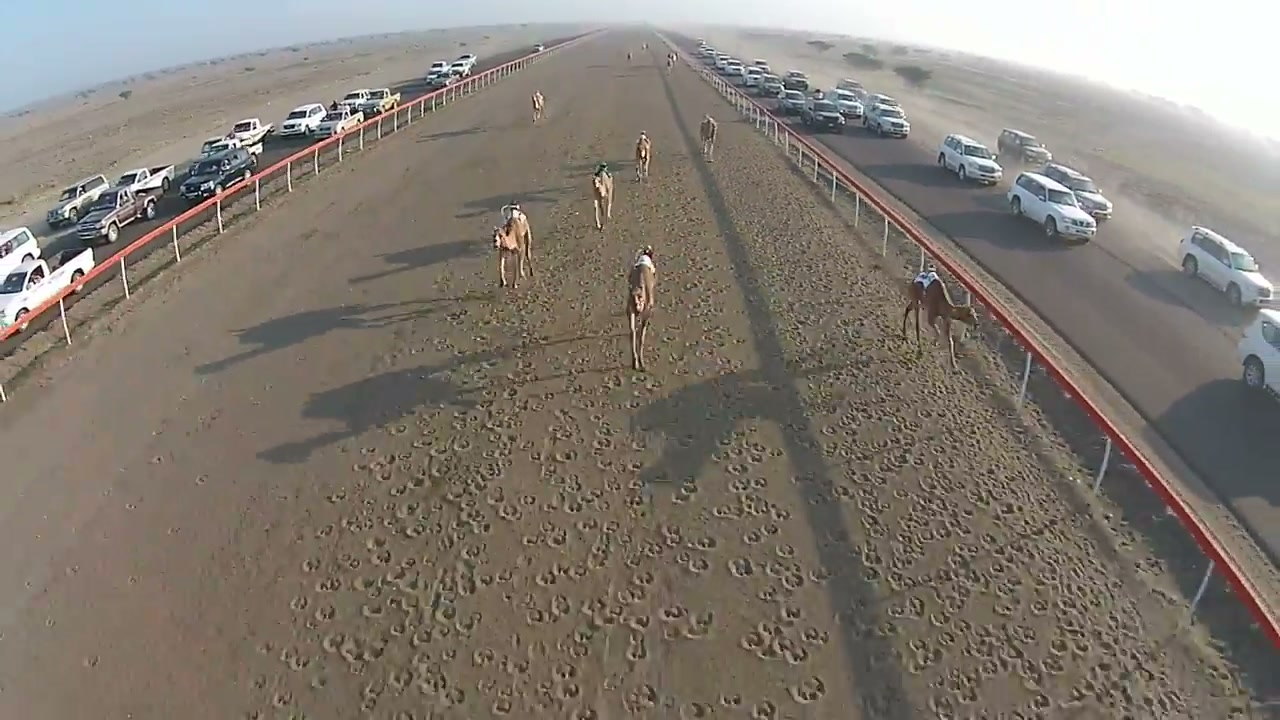animal_footprint: (252, 123, 1212, 719)
